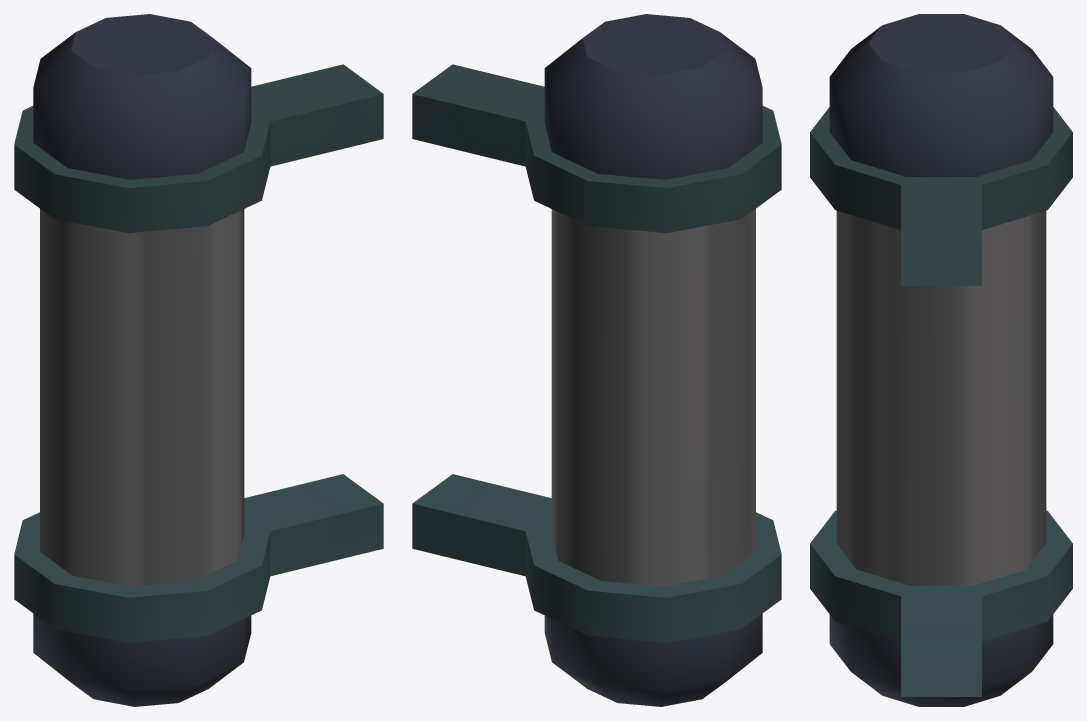
Rendered from BarberSign.fbx.
3 renders of one model, left to right at view 1: azimuth 30°, elevation 25°; view 2: azimuth 150°, elevation 25°; view 3: azimuth 270°, elevation 25°, orthographic.
Parts seen in each view (by area): view 1: BarberSign, BarberSignPart; view 2: BarberSign, BarberSignPart; view 3: BarberSign, BarberSignPart.
Part boxes in pixels (x1,y1,x2,y2): BarberSign: (14, 14, 383, 706); BarberSignPart: (40, 209, 244, 586); BarberSign: (412, 14, 781, 706); BarberSignPart: (551, 209, 755, 586); BarberSign: (810, 14, 1072, 706); BarberSignPart: (836, 210, 1046, 585).
Bounding box in the file's own units: 0.5189 × 0.9522 × 0.3576.
